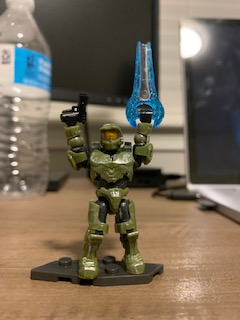chief: (59, 104, 153, 278)
pistol: (60, 94, 91, 126)
spartan: (57, 102, 151, 276)
up: (59, 107, 154, 187)
